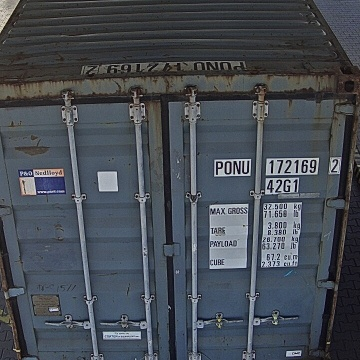serial_id: (215, 159, 340, 175)
